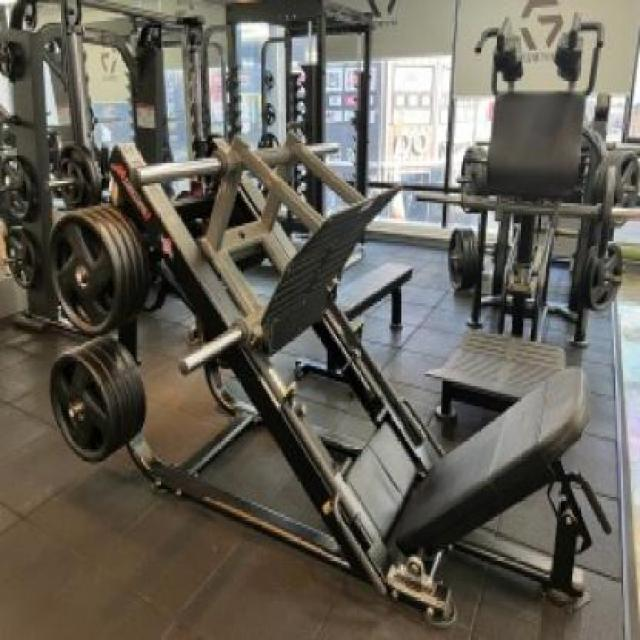leg press: (35, 91, 611, 629)
